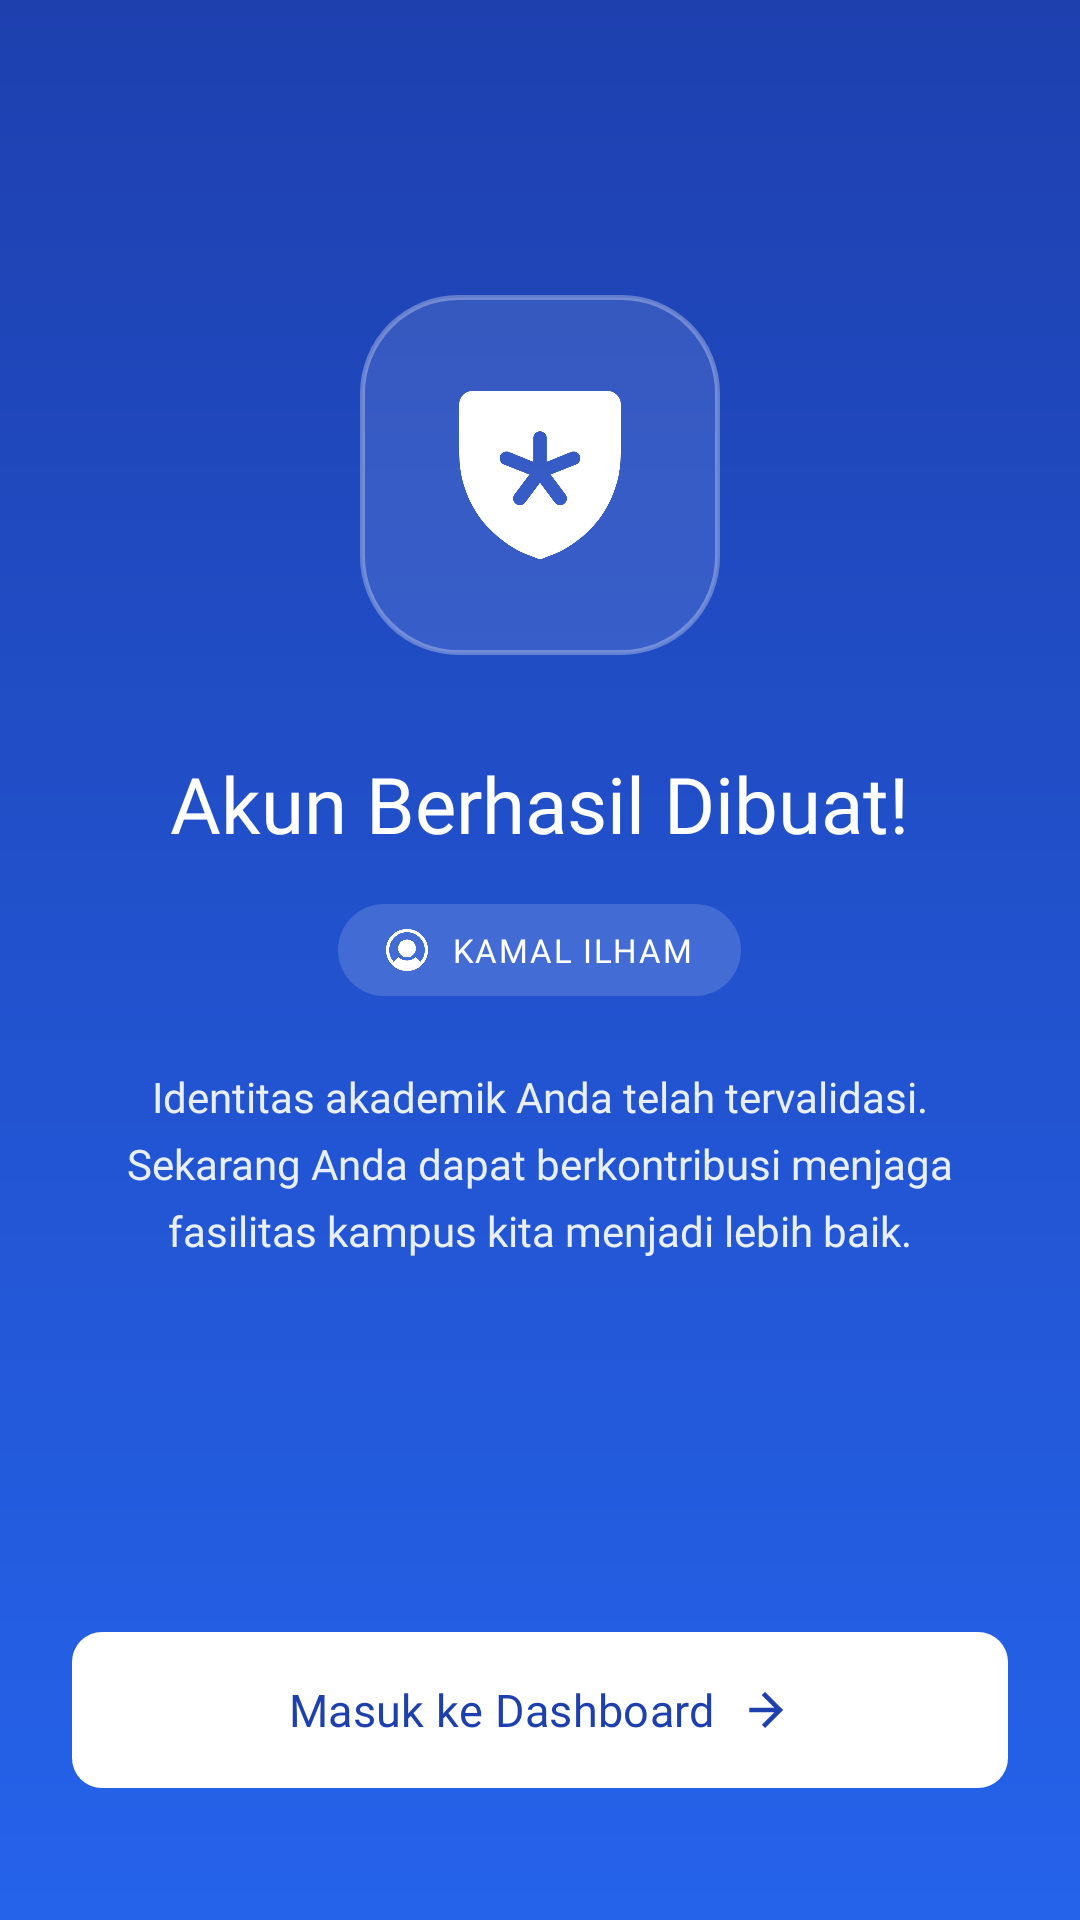

Where to tap for icons on this 1080×1920 app screen, as (x=x, y=y):
shield asterisk: (x=540, y=475)
user circle: (x=407, y=950)
